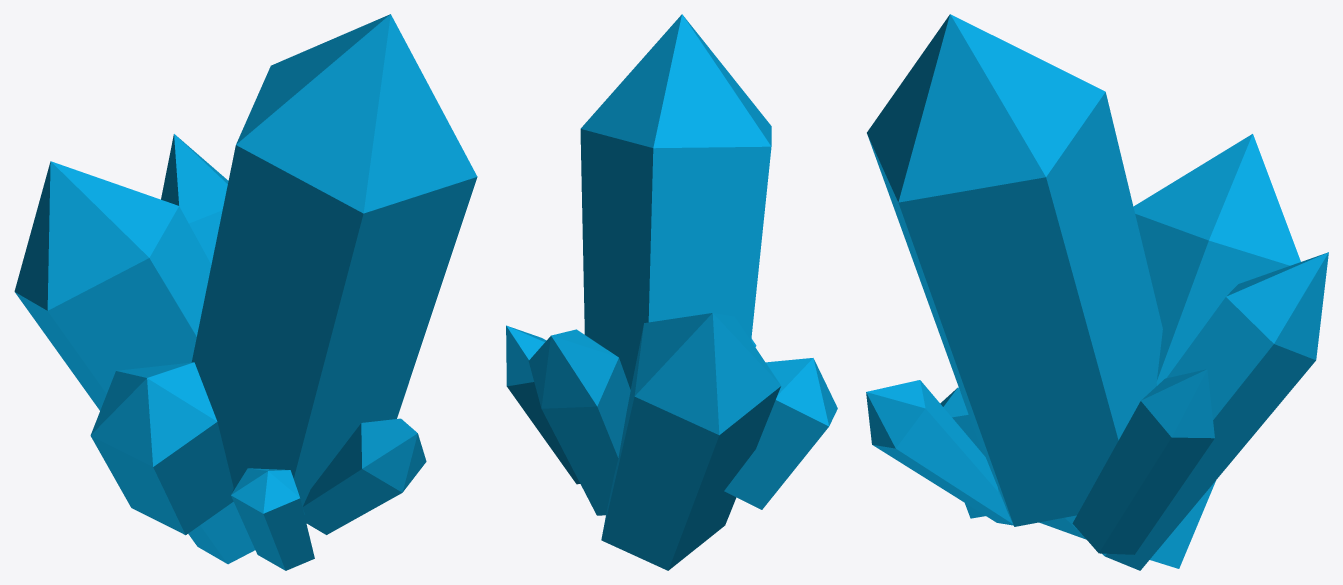
The model's file is Crystal_Cluster_001.fbx.
3 views of the same model, side by side, from view 1: azimuth 30°, elevation 25°; view 2: azimuth 150°, elevation 25°; view 3: azimuth 270°, elevation 25° (orthographic). The views are drawn at different scales.
Parts seen in each view (by area): view 1: Crystal_Cluster_001; view 2: Crystal_Cluster_001; view 3: Crystal_Cluster_001.
Boxes of the visible parts, x1,y1,x2,y2 form: Crystal_Cluster_001: (14, 14, 477, 570); Crystal_Cluster_001: (506, 14, 837, 570); Crystal_Cluster_001: (866, 14, 1328, 570).
Size of the model in its own units: 120 by 195 by 139.
